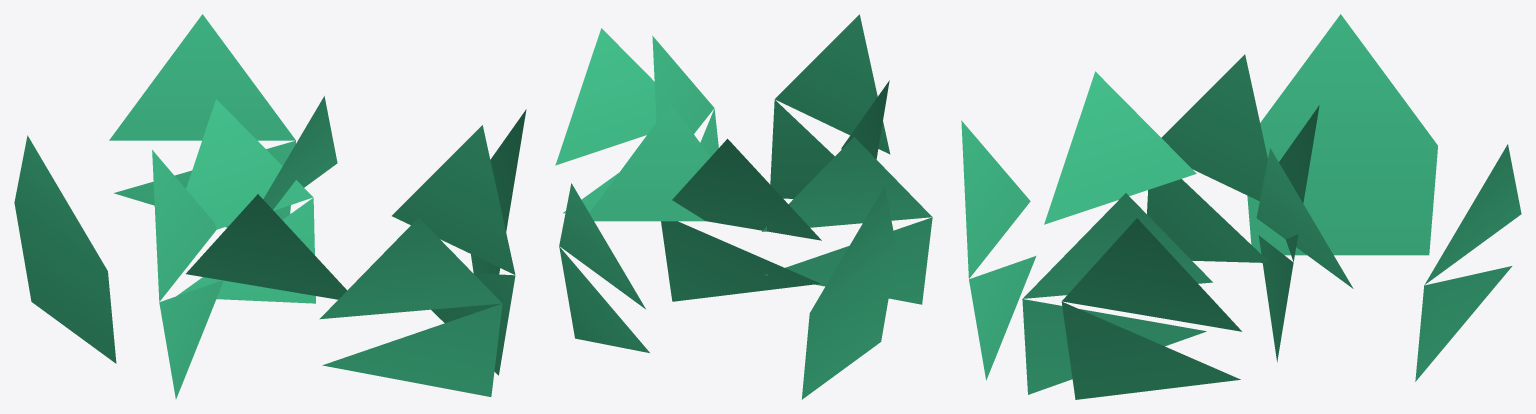
File: Mowed Grass High LOD_decimated_03.glb
3 views of the same model, side by side, from view 1: azimuth 30°, elevation 25°; view 2: azimuth 150°, elevation 25°; view 3: azimuth 270°, elevation 25° (orthographic). The views are drawn at different scales.
Visible parts, largest first — view 1: Mowed Grass High LOD; view 2: Mowed Grass High LOD; view 3: Mowed Grass High LOD.
Boxes of the visible parts, left/top/right/bottom form: Mowed Grass High LOD: left=14, top=14, right=526, bottom=398; Mowed Grass High LOD: left=555, top=14, right=932, bottom=399; Mowed Grass High LOD: left=961, top=14, right=1521, bottom=399.
Size of the model in its own units: 0.3814 by 0.19 by 0.4428.
